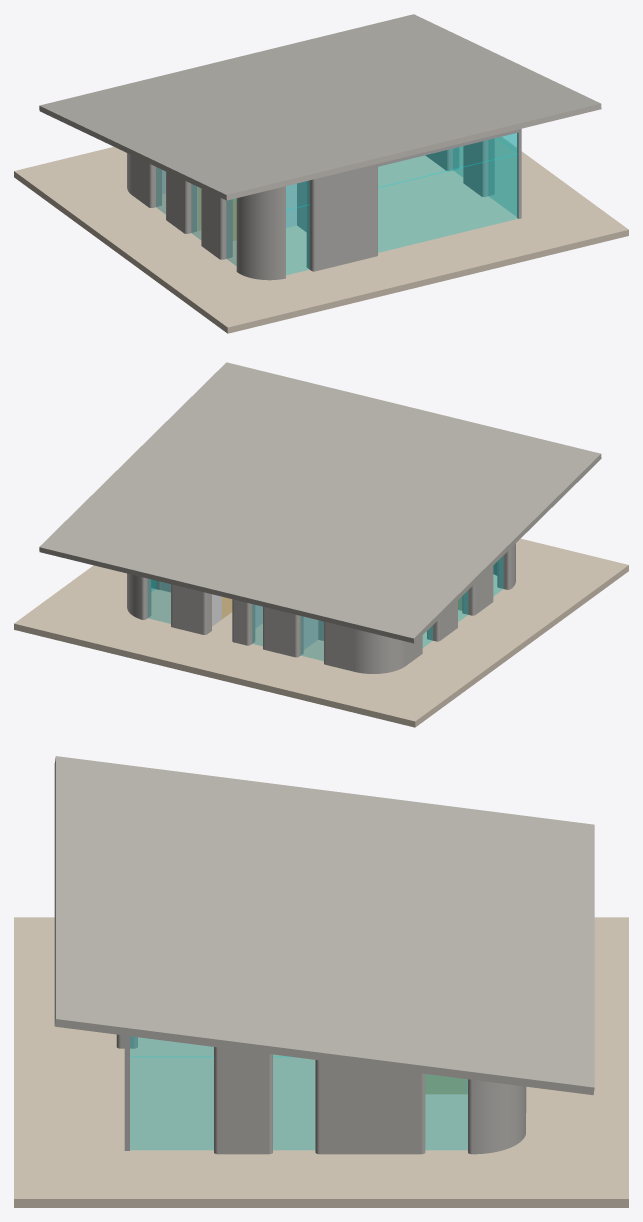
Rendered from final_house.glb.
The picture shows the model from 3 angles, top to bottom: view 1: azimuth 30°, elevation 25°; view 2: azimuth 150°, elevation 25°; view 3: azimuth 270°, elevation 25°; orthographic projection. The views are drawn at different scales.
Visible parts, largest first — view 1: no_transformations; view 2: no_transformations; view 3: no_transformations.
Part boxes in pixels (<box>): no_transformations: <box>14,14,628,333</box>; no_transformations: <box>14,362,628,727</box>; no_transformations: <box>14,756,628,1207</box>.
Size of the model in its own units: 15600 by 4641 by 14400.
